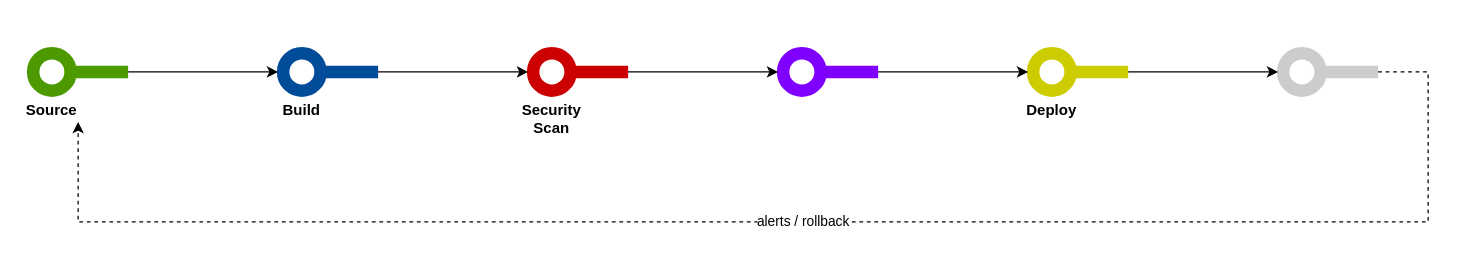
This 1460x254 diagram has some shape labels left out. The centre of each missing label's shape, as x and y in pixels:
"Monitor" goes at (x=1301, y=71).
"Package" goes at (x=801, y=71).
